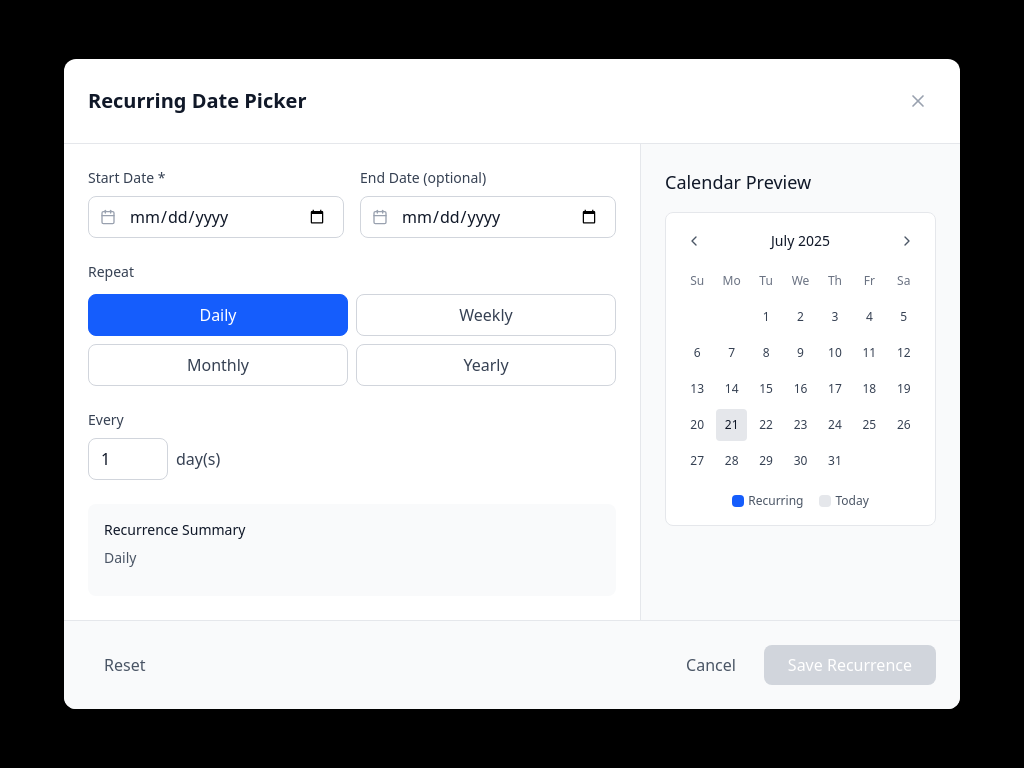
Test case: RecurringDatePicker Integration › changes recurrence type
The width and height of the screenshot is (1024, 768).
// Click weekly button
Click the button "weekly".
click(486, 315)  # box x1=356 y1=294 x2=616 y2=336
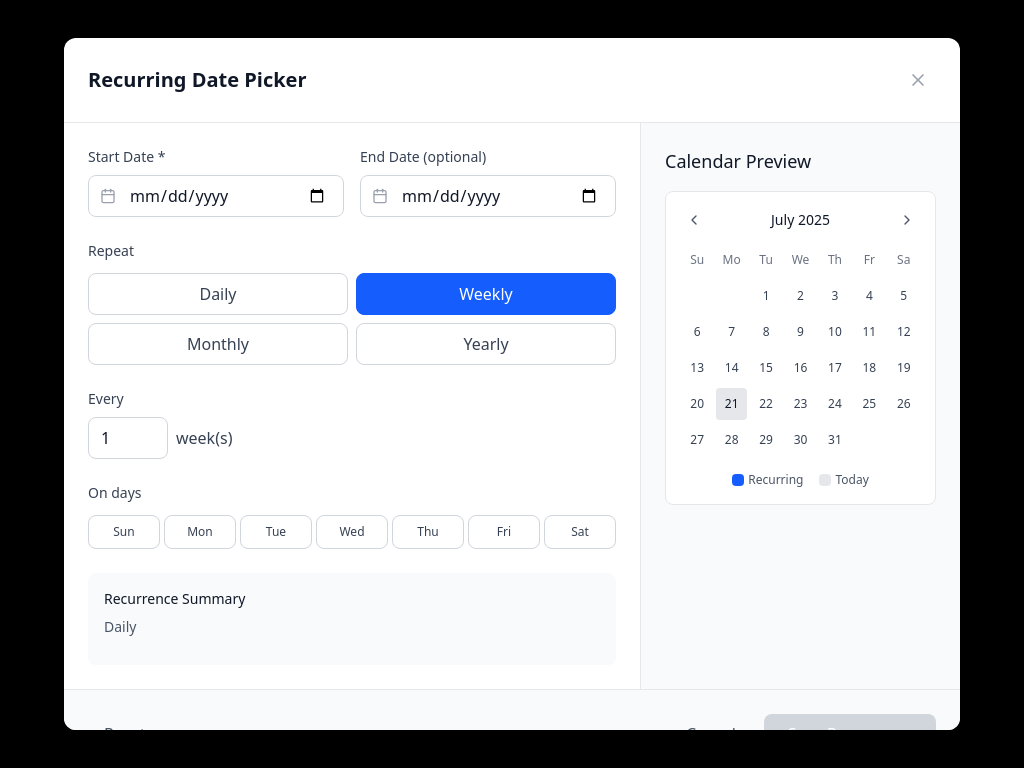
expect the text "On days" is shown: met, box x1=88 y1=483 x2=142 y2=502
